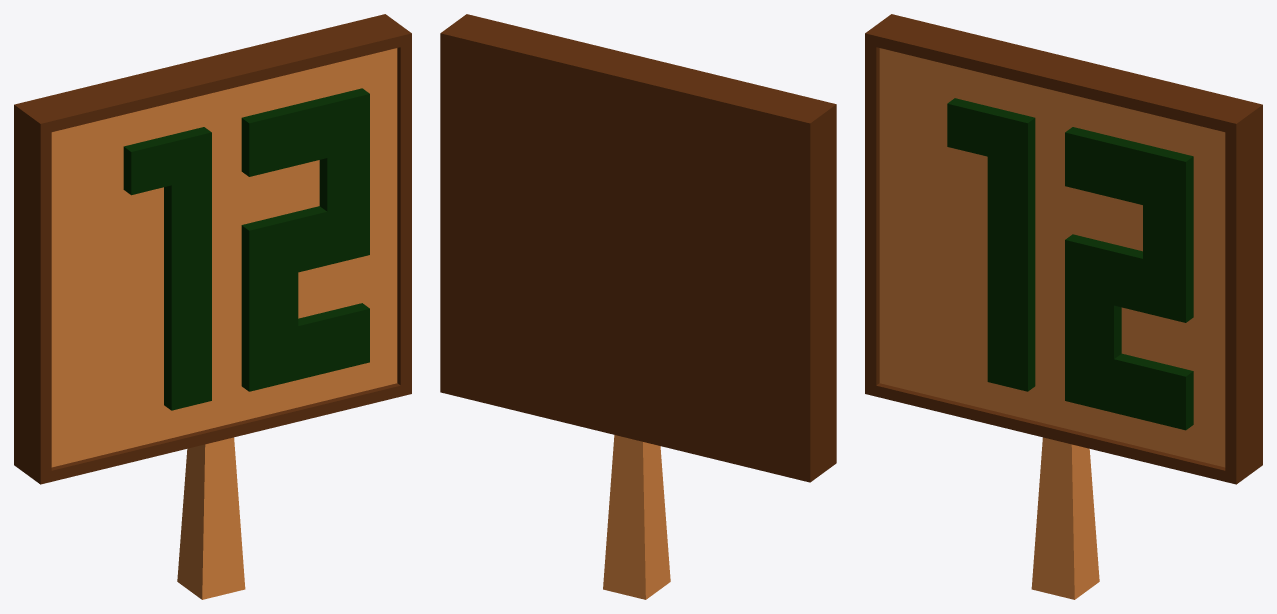
File: Sign_12.fbx
The picture shows the model from 3 angles, left to right: view 1: azimuth 30°, elevation 25°; view 2: azimuth 150°, elevation 25°; view 3: azimuth 330°, elevation 25°; orthographic projection.
Parts seen in each view (by area): view 1: Cube; view 2: Cube; view 3: Cube.
Boxes of the visible parts, x1=… form: Cube: x1=14, y1=14, x2=411, y2=599; Cube: x1=440, y1=14, x2=836, y2=599; Cube: x1=865, y1=14, x2=1262, y2=599.
Size of the model in its own units: 171 by 228 by 25.36.
